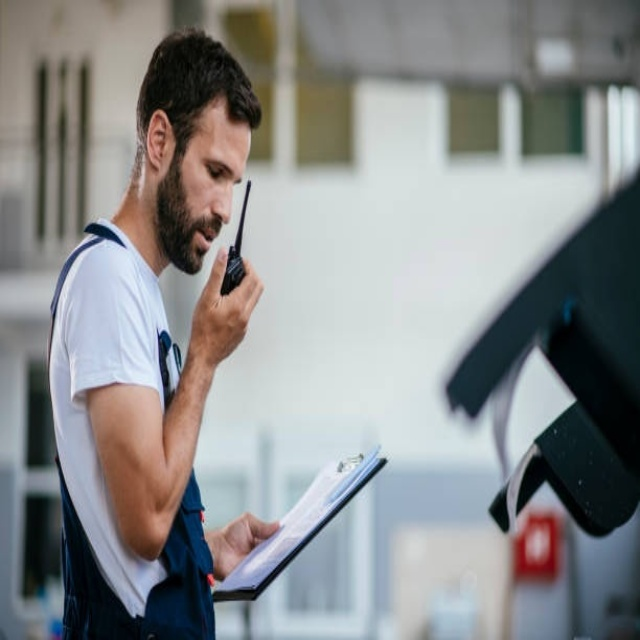Sin_gafas: (192, 141, 245, 196)
Sin_guantes: (188, 243, 266, 353), (210, 512, 283, 584)
Sin_mascara: (182, 216, 222, 271)
